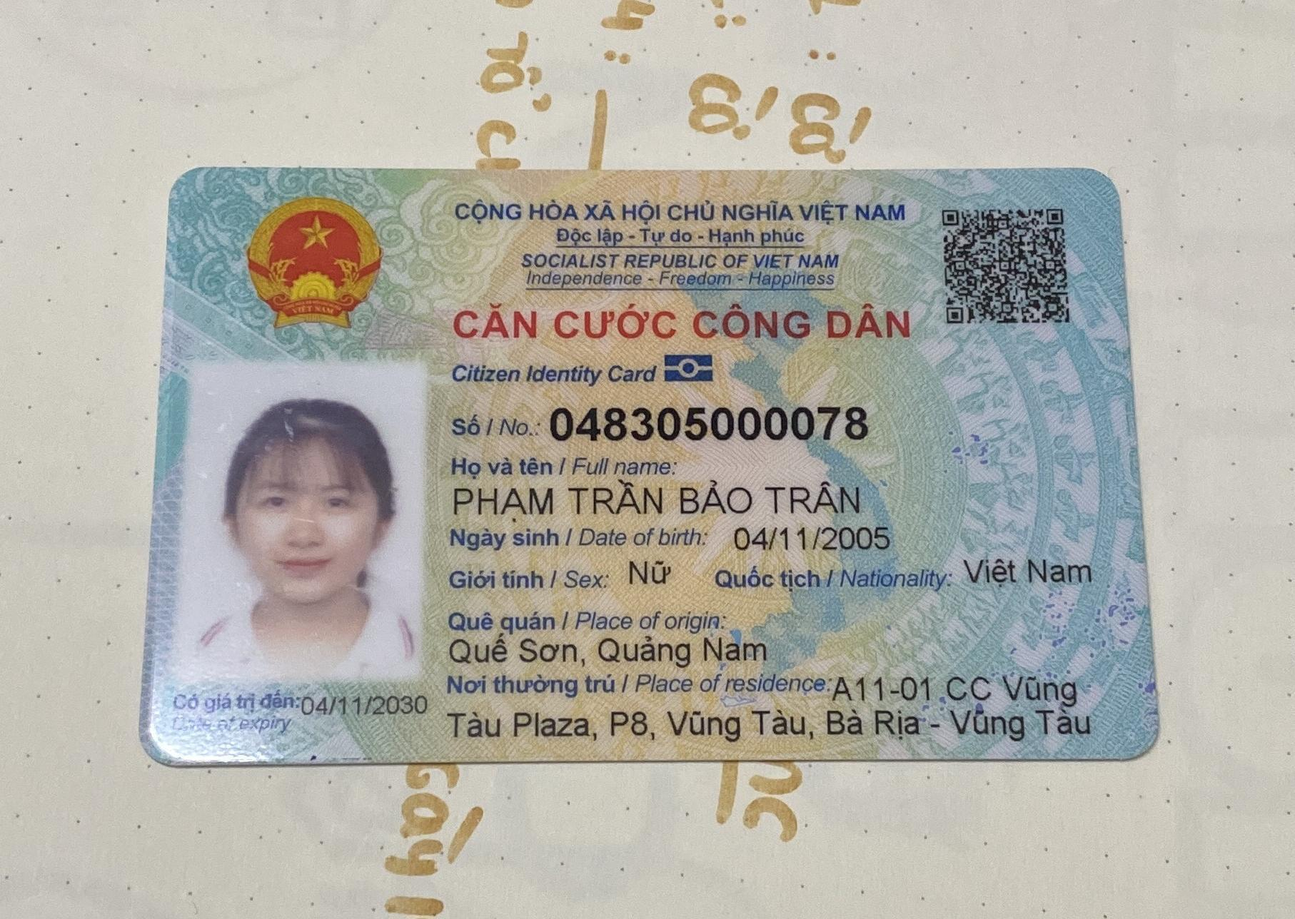ID: (534, 391, 886, 449)
birth: (728, 522, 897, 559)
name: (442, 476, 870, 521)
place: (443, 631, 777, 668)
residence: (437, 699, 1092, 749), (828, 665, 1087, 709)
